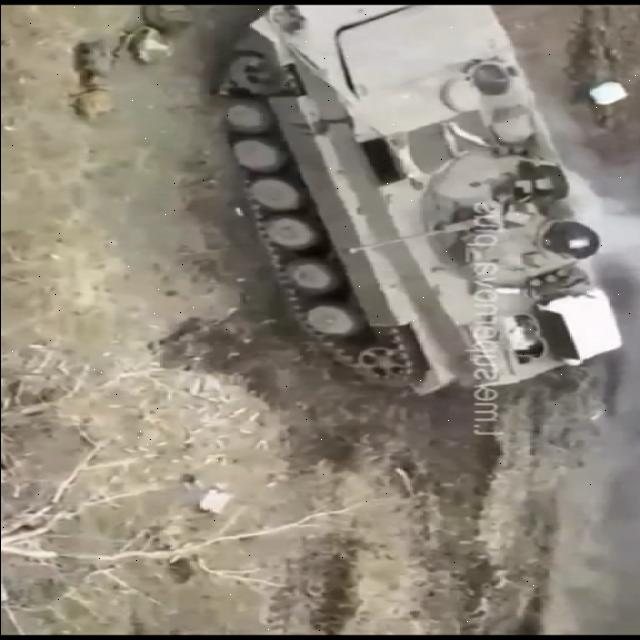APC-IFV: (217, 6, 634, 398)
